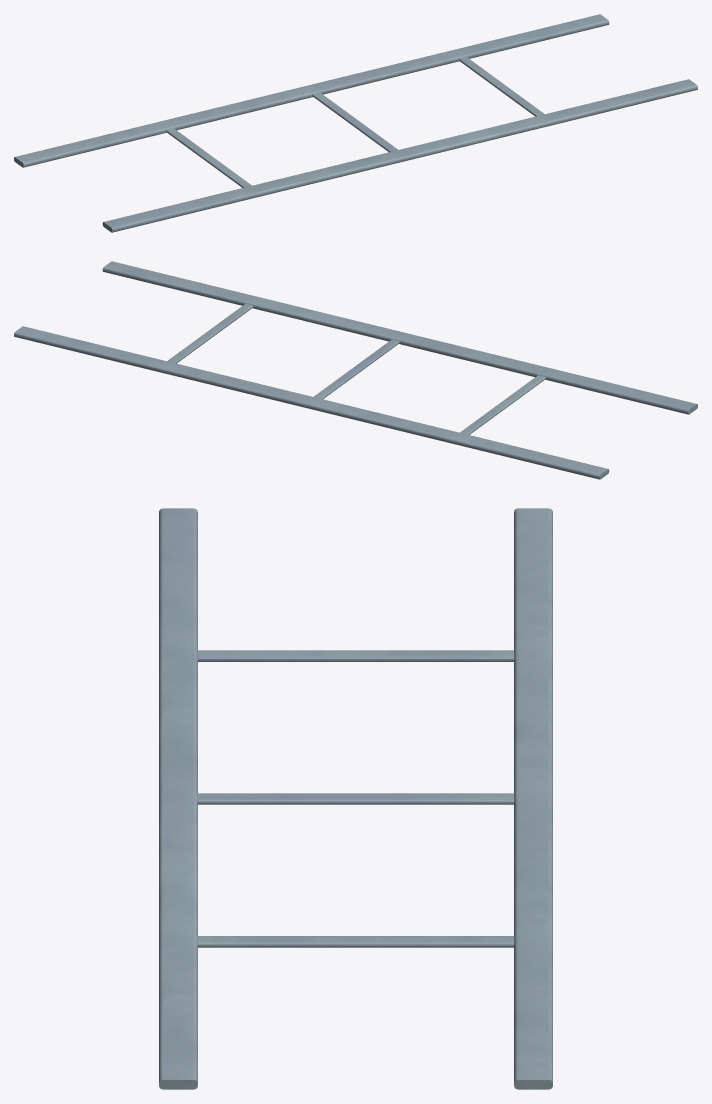
The model's file is Fixture_LP.FBX.
3 views of the same model, one above another, from view 1: azimuth 30°, elevation 25°; view 2: azimuth 150°, elevation 25°; view 3: azimuth 270°, elevation 25° (orthographic). The views are drawn at different scales.
Parts seen in each view (by area): view 1: Fixture_LP; view 2: Fixture_LP; view 3: Fixture_LP.
Part boxes in pixels (<box>): Fixture_LP: <box>14,14,697,232</box>; Fixture_LP: <box>14,261,697,479</box>; Fixture_LP: <box>159,508,552,1089</box>.
Size of what is drawn, in the model's own units: 1193 by 347 by 9.42.
